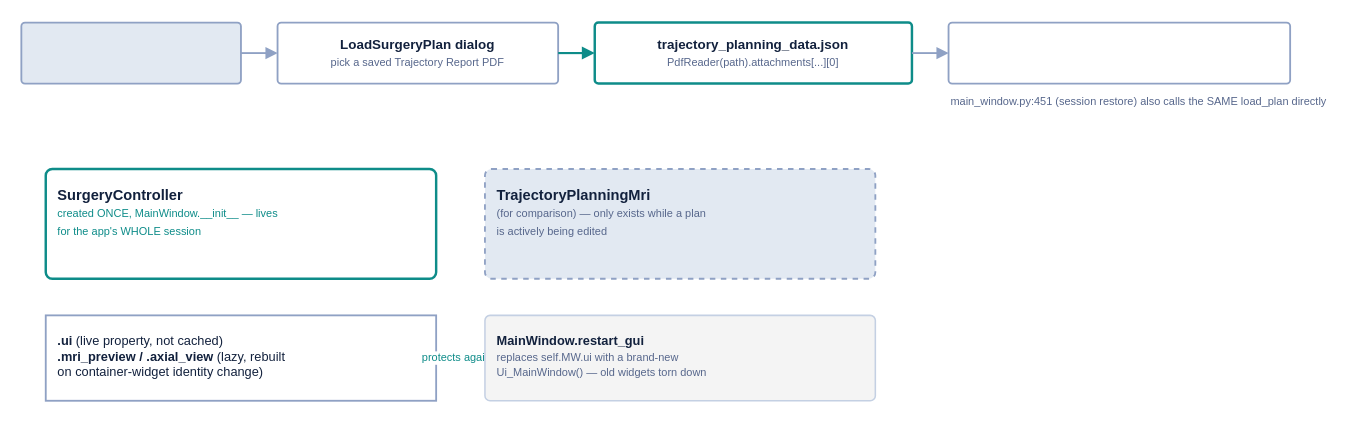
This 1348x422 diagram has some shape labels left out. The centre of each missing label's shape, as x and y in pixels:
initialize_surgery(): [130,52]
SurgeryController.load_plan() via BusyOverlay.run(...): [1119,52]
